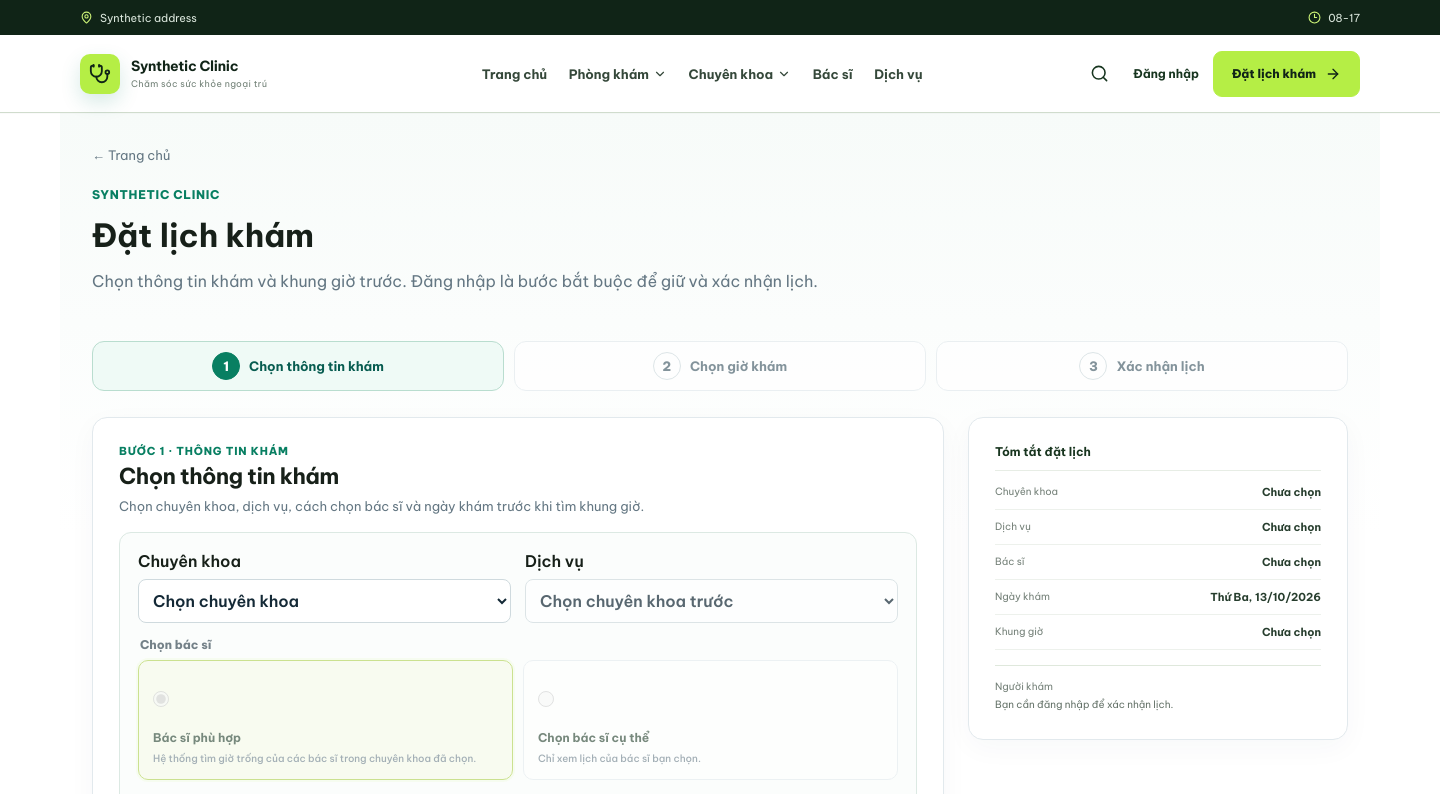
Scenario: shows a clear empty state with recovery actions when no slot exists
Check: the heading "Chọn thông tin khám" is shown, box 119,462 -> 339,490
Select "Nhi" in the dropdown labelled "Chuyên khoa": (324, 601) 138,579 -> 511,623
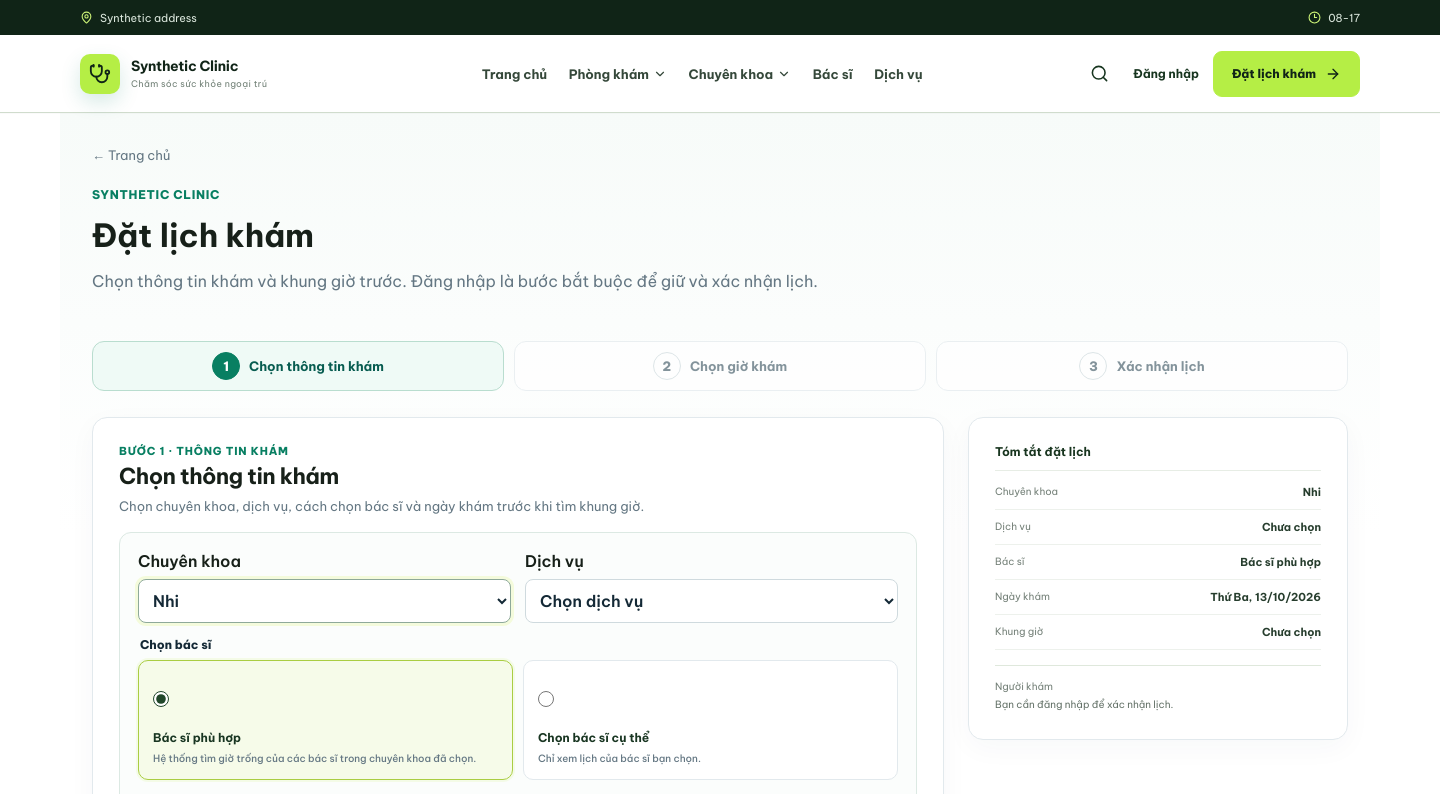
Select "Khám Nhi" in the dropdown labelled "Dịch vụ": (712, 601) 525,579 -> 898,623
(page scrolled)
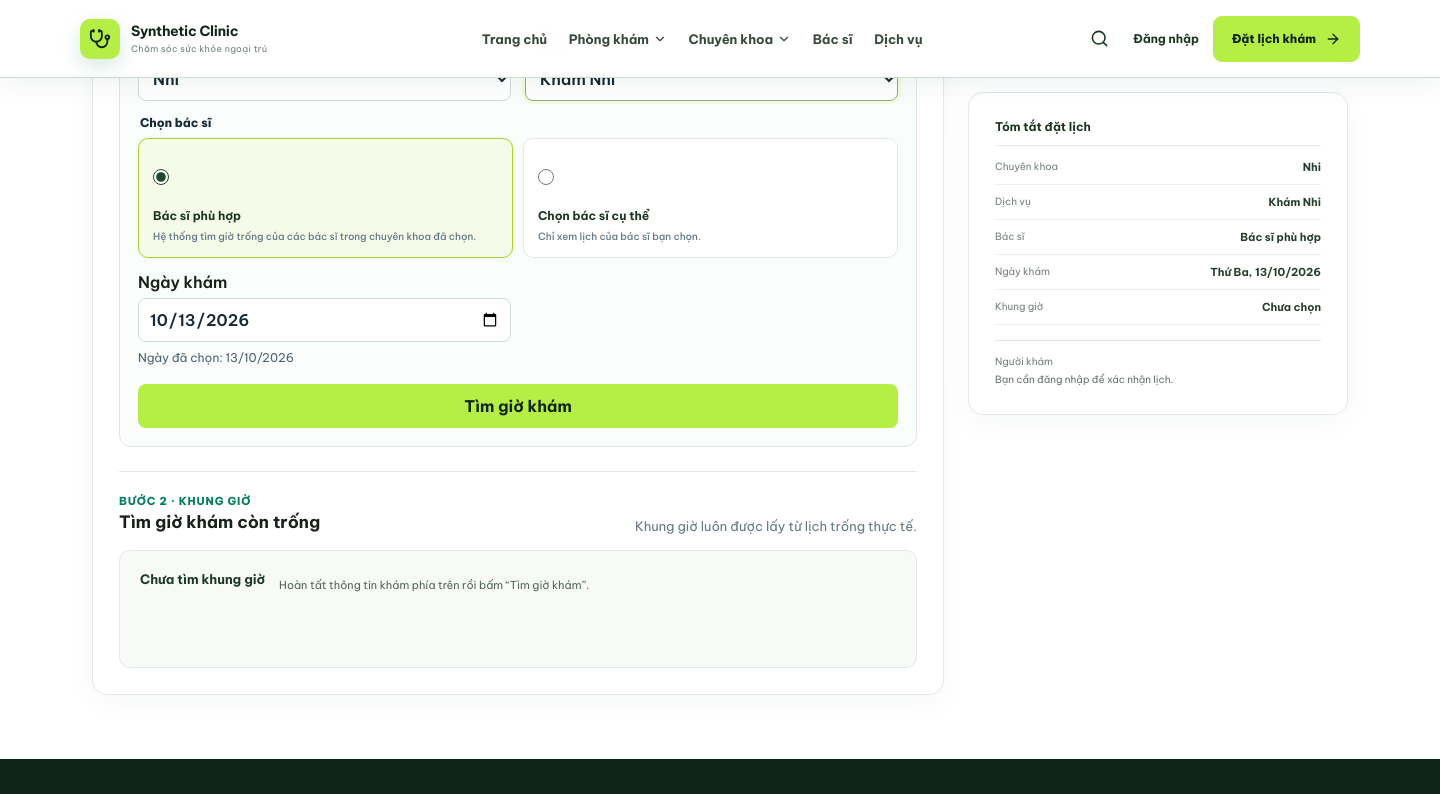
Click the button "Tìm giờ khám": (518, 406) 138,384 -> 898,428
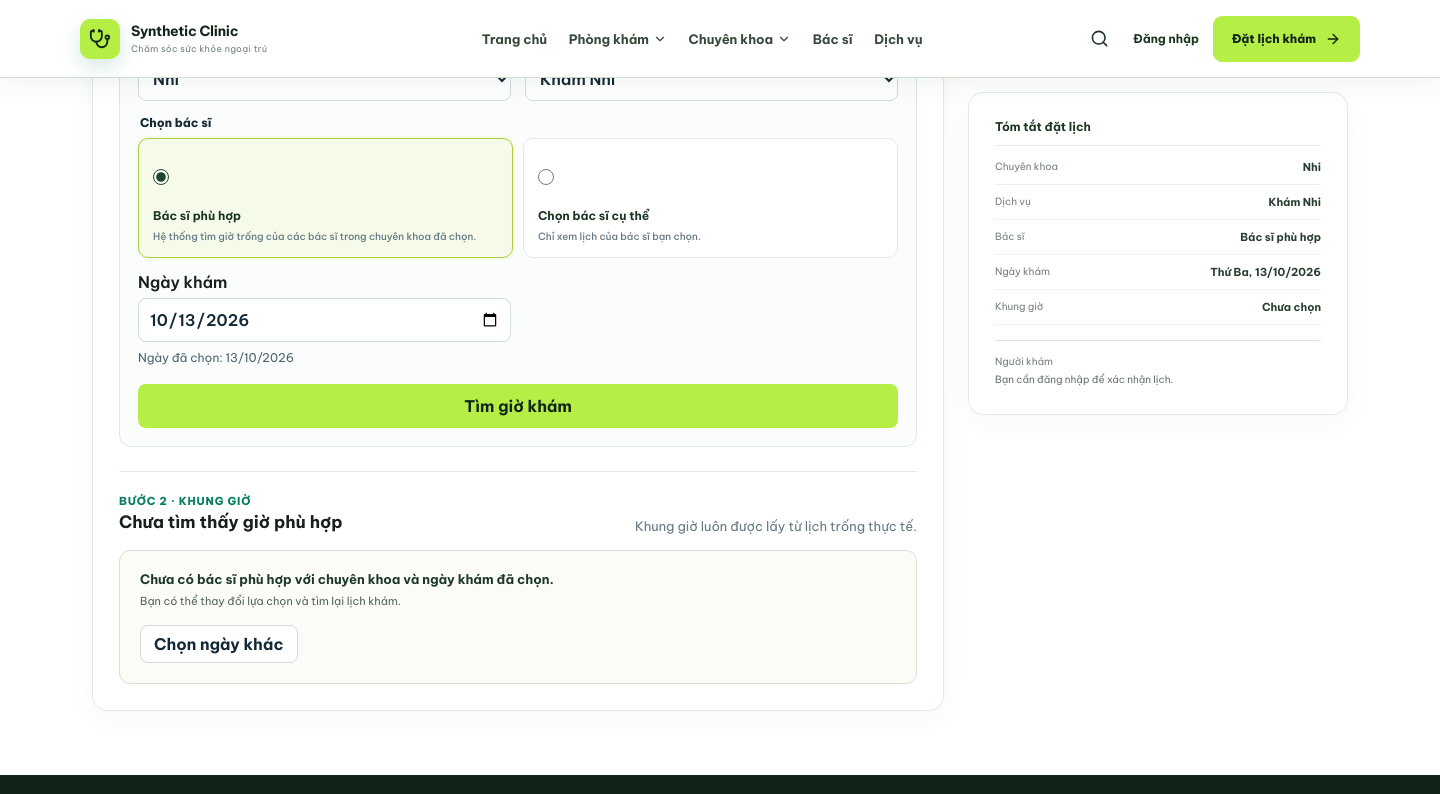
Check: the text "Chưa có bác sĩ phù hợp với chuyên khoa và ngày khám đã chọn." is shown, box 140,571 -> 554,587
Check: the button "Chọn ngày khác" is shown, box 140,625 -> 298,663
